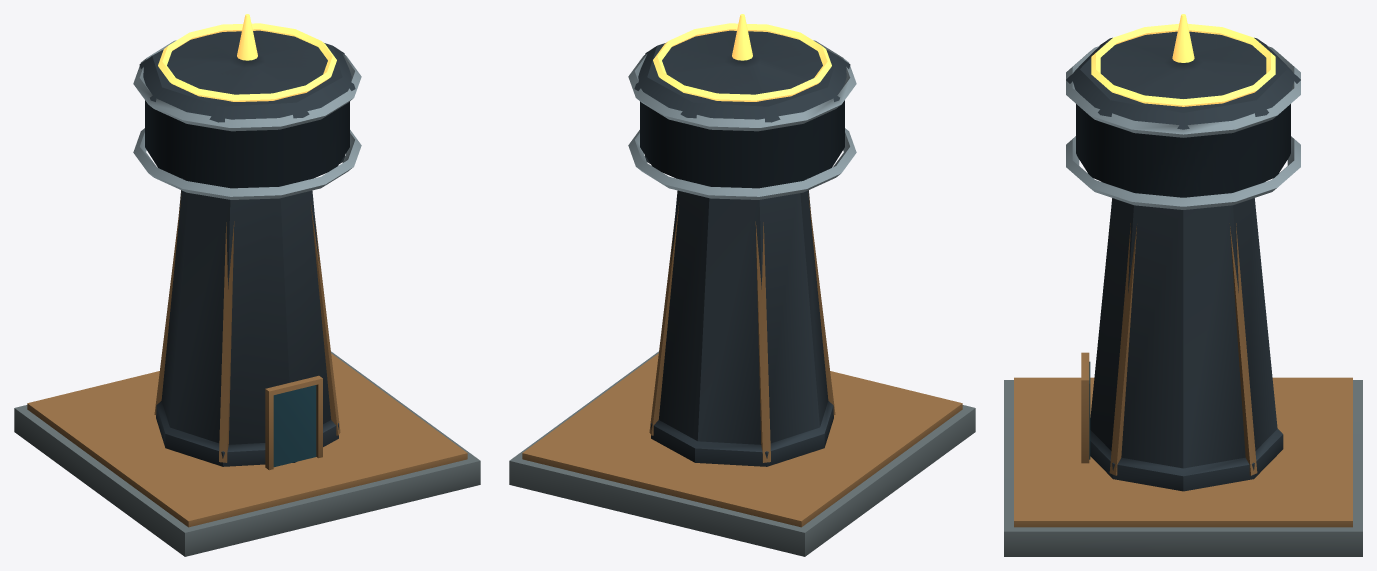
File: operations-beacon.lod2.glb
3 renders of one model, left to right at view 1: azimuth 30°, elevation 25°; view 2: azimuth 150°, elevation 25°; view 3: azimuth 270°, elevation 25°, orthographic. The views are drawn at different scales.
Visible parts, largest first — view 1: structure, signal; view 2: structure, signal; view 3: structure, signal.
Part boxes in pixels (bbox=[...]): structure: bbox=[14, 30, 480, 556]; signal: bbox=[158, 14, 336, 101]; structure: bbox=[509, 30, 975, 556]; signal: bbox=[653, 14, 831, 101]; structure: bbox=[1004, 31, 1362, 556]; signal: bbox=[1091, 14, 1275, 106].
Size of the model in its own units: 9 by 12.9 by 9.
